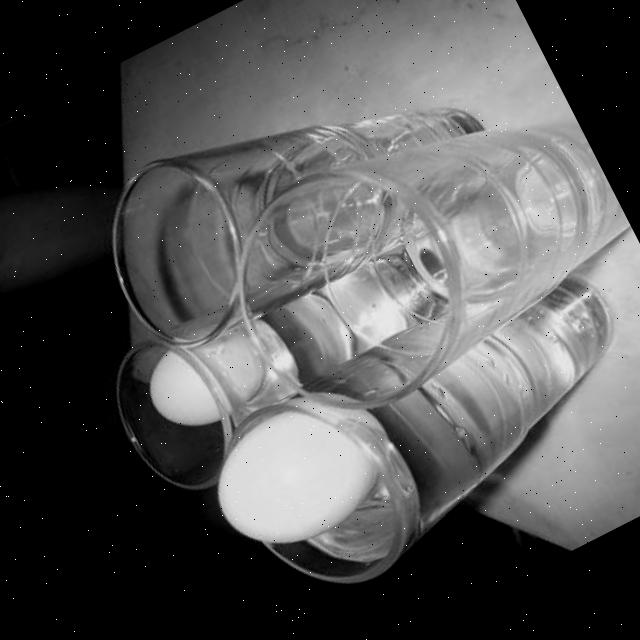ping-pong-ball: (190, 380, 399, 573), (127, 308, 280, 448)
